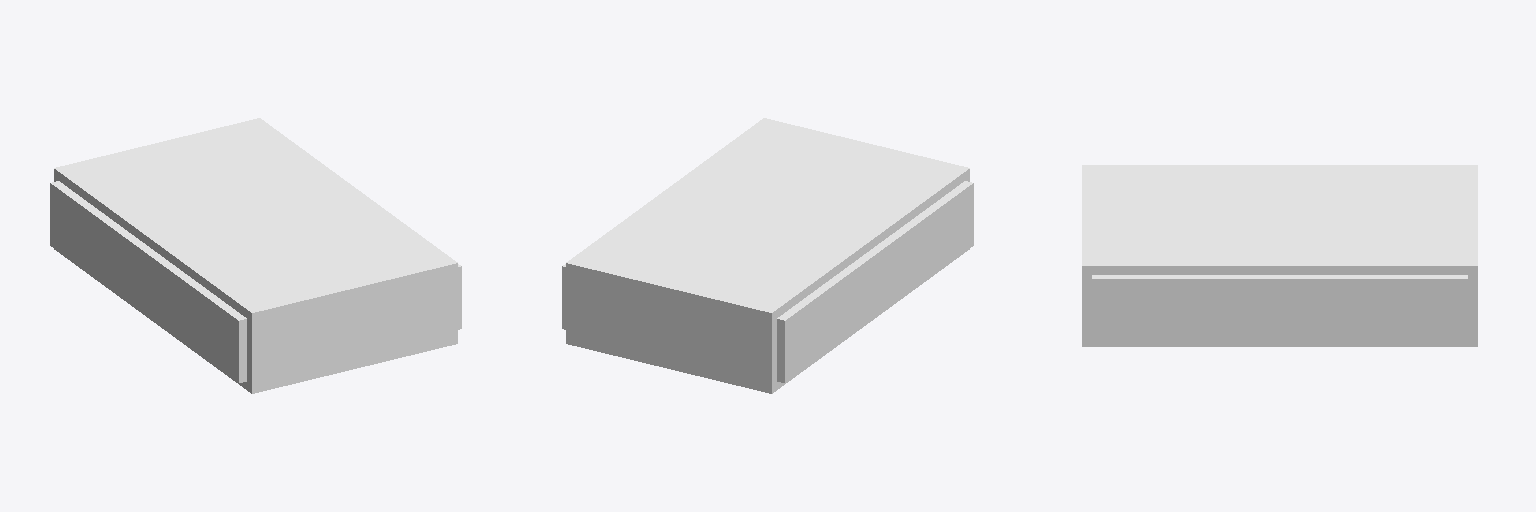
The model's file is tusha.obj.
3 views of the same model, side by side, from view 1: azimuth 30°, elevation 25°; view 2: azimuth 150°, elevation 25°; view 3: azimuth 270°, elevation 25° (orthographic).
Parts seen in each view (by area): view 1: object 1; view 2: object 1; view 3: object 1.
Part boxes in pixels (x1,y1,x2,y2): object 1: (50, 118, 461, 393); object 1: (562, 118, 973, 393); object 1: (1082, 165, 1477, 346).
Bounding box in the file's own units: 2.6 × 0.9 × 4.